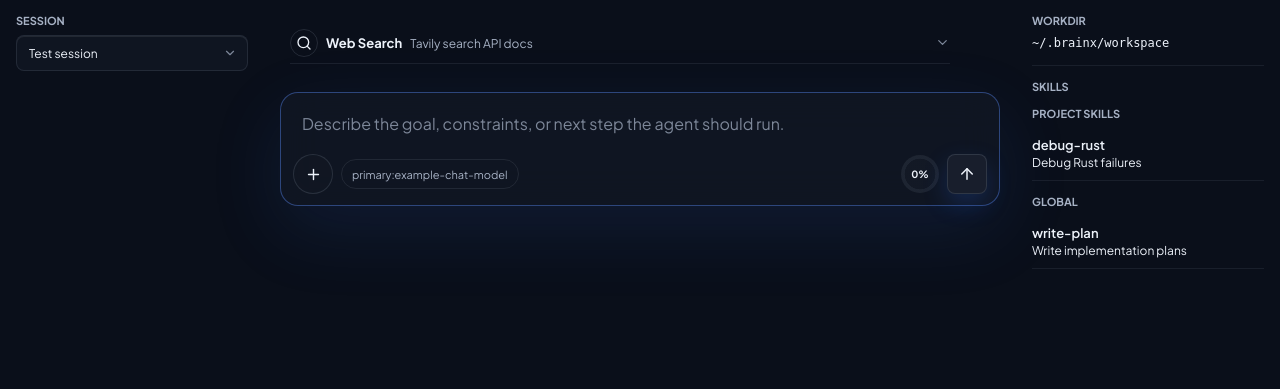
Scenario: chat interaction polish › renders web search results as answer and source summaries
Click the dropdown named "Chat sessions".
click(132, 53)  # box [16, 35, 248, 71]
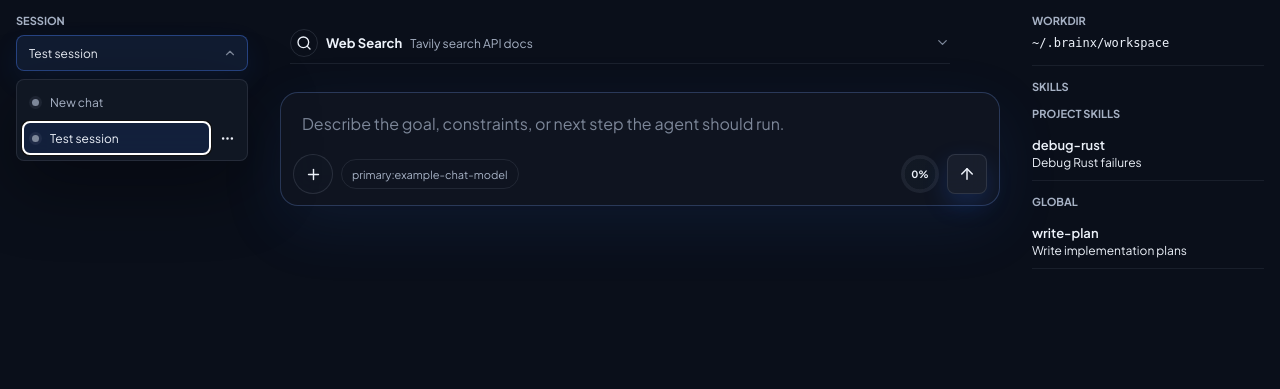
Click the option "Test session".
click(116, 138)  # box [23, 122, 210, 154]
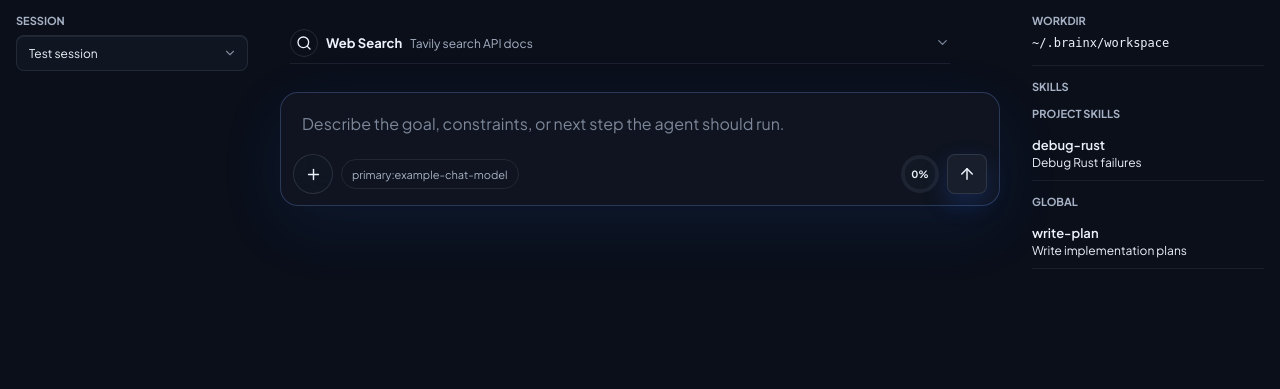
Click the button "Web Search Tavily search API docs".
click(364, 43)  # box [290, 22, 950, 64]
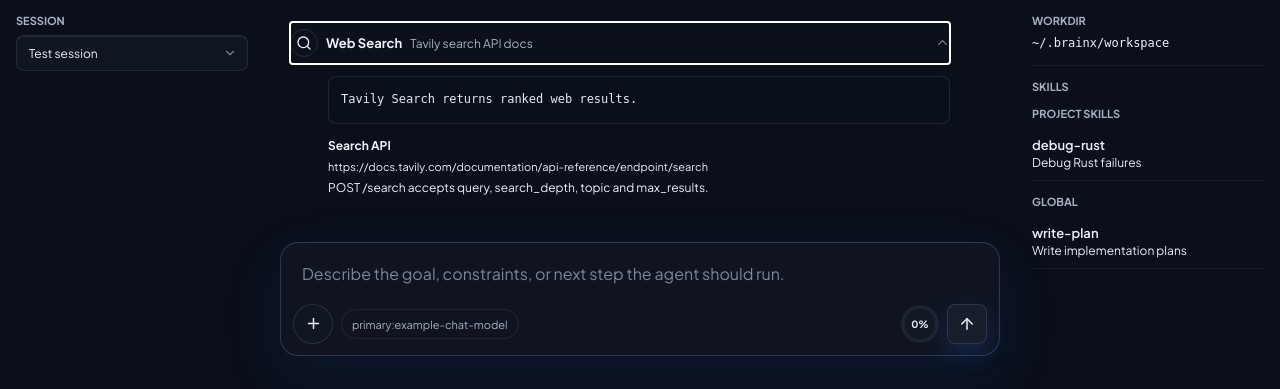
Now the text "Tavily Search returns ranked web results." is shown, box [341, 92, 637, 106]
Now the text "Search API" is shown, box [328, 138, 391, 153]
Now the text "https://docs.tavily.com/documentation/api-reference/endpoint/search" is shown, box [328, 160, 708, 173]
